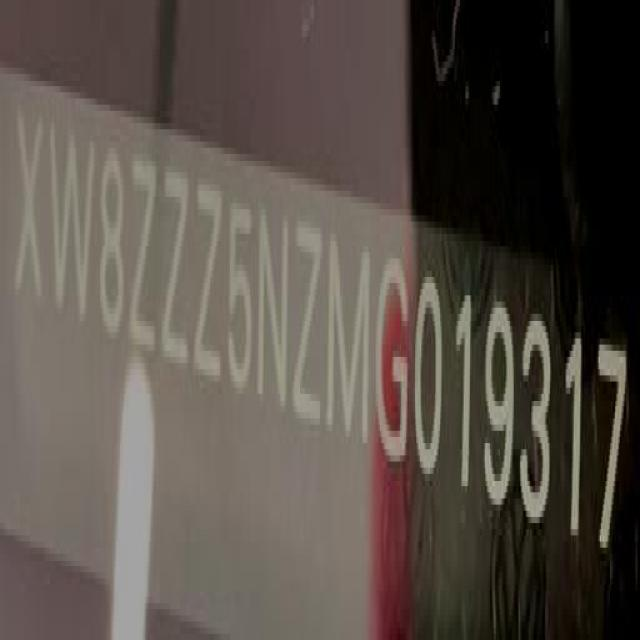0: (411, 276, 443, 483)
1: (563, 321, 586, 547), (453, 269, 473, 501)
3: (519, 306, 552, 520)
5: (223, 196, 254, 403)
7: (594, 331, 627, 558)
8: (98, 137, 126, 333)
9: (482, 294, 514, 520)
G: (372, 253, 412, 467)
M: (324, 226, 370, 458)
N: (256, 205, 290, 413)
W: (48, 112, 96, 326)
X: (13, 96, 46, 314)
Z: (291, 205, 325, 433), (160, 160, 192, 376), (192, 178, 224, 394), (129, 146, 161, 349)
